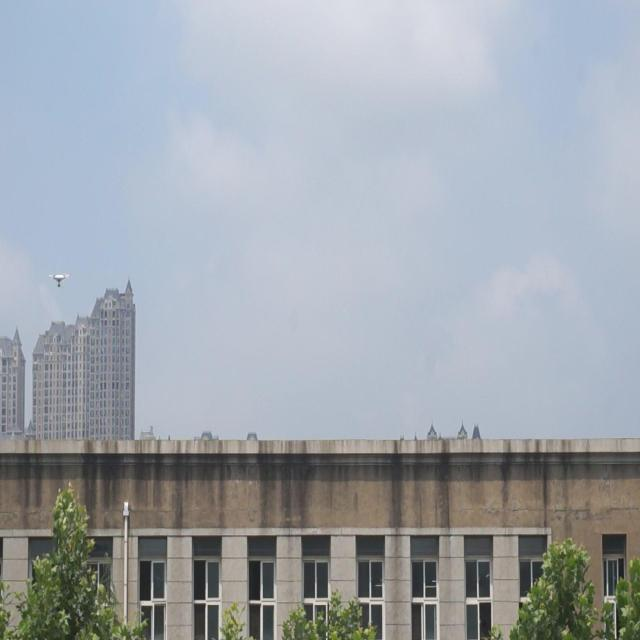drone: (50, 272, 70, 290)
